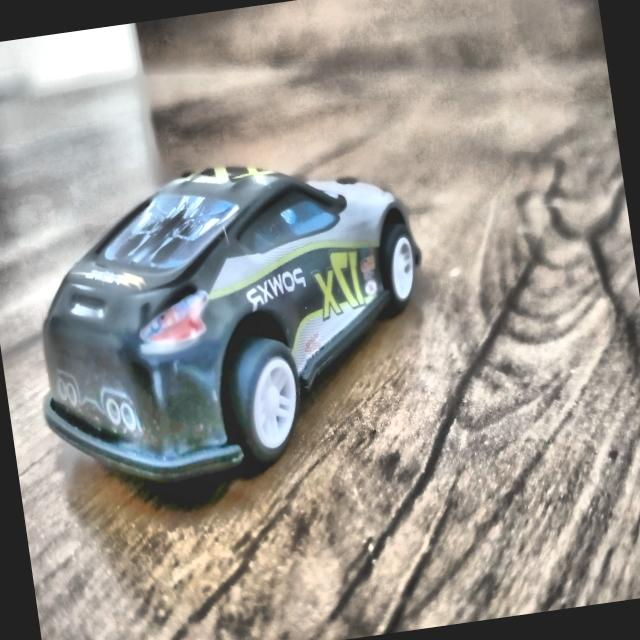Car: (7, 142, 454, 544)
